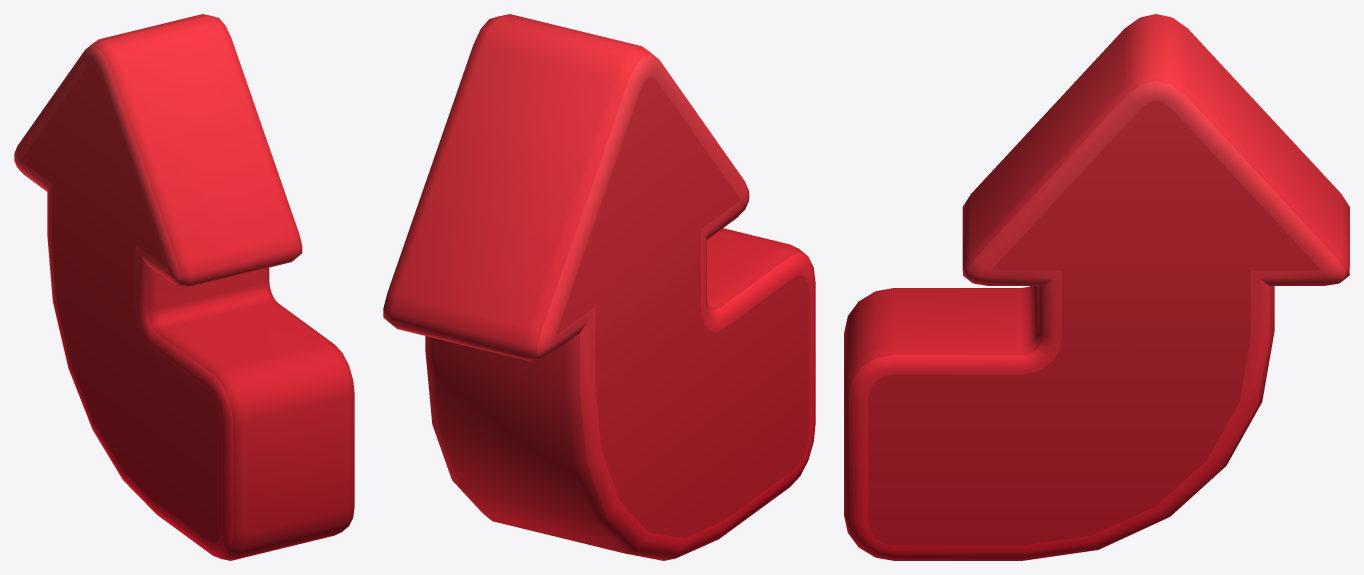
Rendered from Angled_Arrow_V2_00.fbx.
The picture shows the model from 3 angles, left to right: view 1: azimuth 30°, elevation 25°; view 2: azimuth 150°, elevation 25°; view 3: azimuth 270°, elevation 25°; orthographic projection. The views are drawn at different scales.
Parts seen in each view (by area): view 1: Angled_Arrow_V2_00; view 2: Angled_Arrow_V2_00; view 3: Angled_Arrow_V2_00.
Boxes of the visible parts, x1=… form: Angled_Arrow_V2_00: x1=14, y1=14, x2=354, y2=560; Angled_Arrow_V2_00: x1=383, y1=14, x2=815, y2=560; Angled_Arrow_V2_00: x1=844, y1=14, x2=1349, y2=560.
Size of the model in its own units: 12.47 by 39.84 by 37.38.
